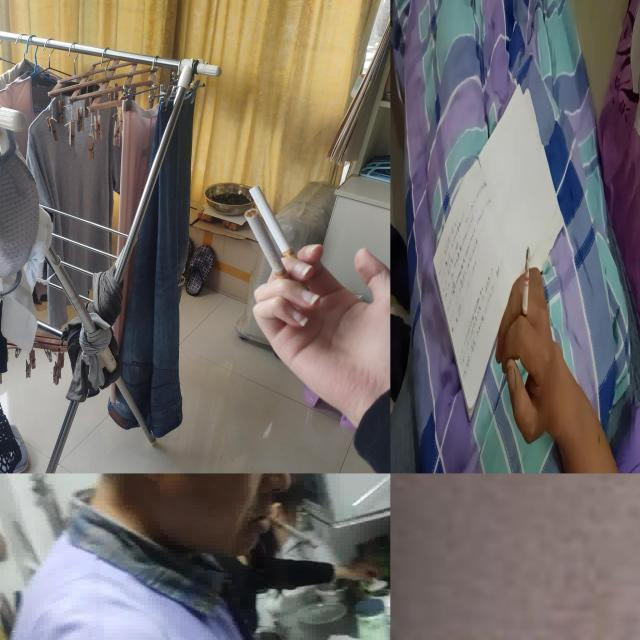cigarette: (248, 185, 304, 276), (244, 208, 296, 294), (264, 512, 317, 548), (520, 245, 531, 336)
